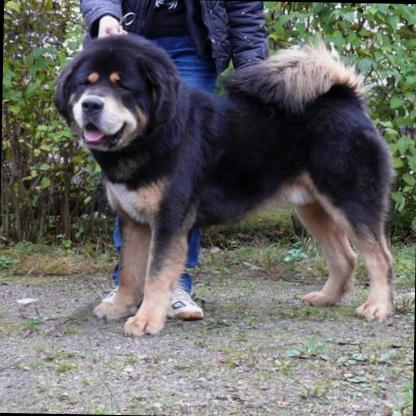Tibetan_mastiff: (47, 31, 396, 340)
